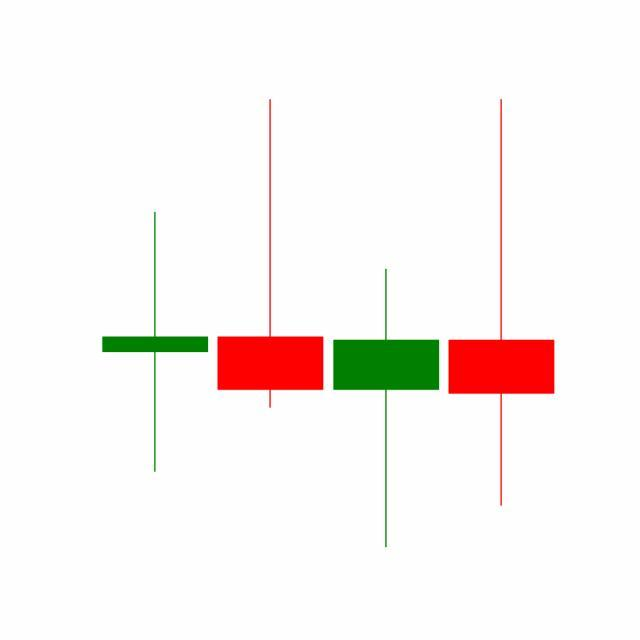Spinning Top: (329, 266, 445, 551)
